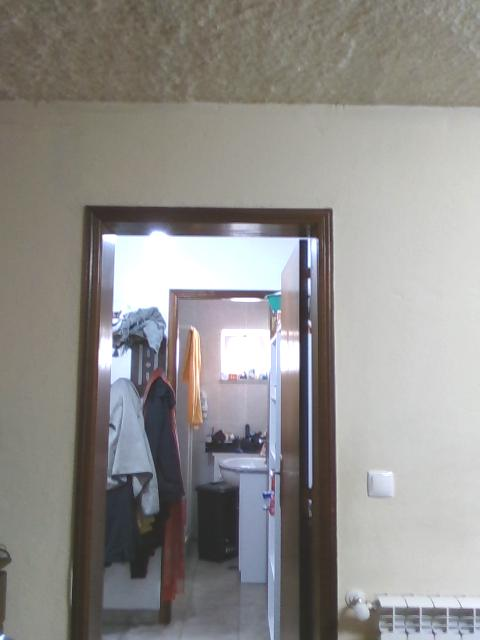open_door: (73, 202, 340, 639)
